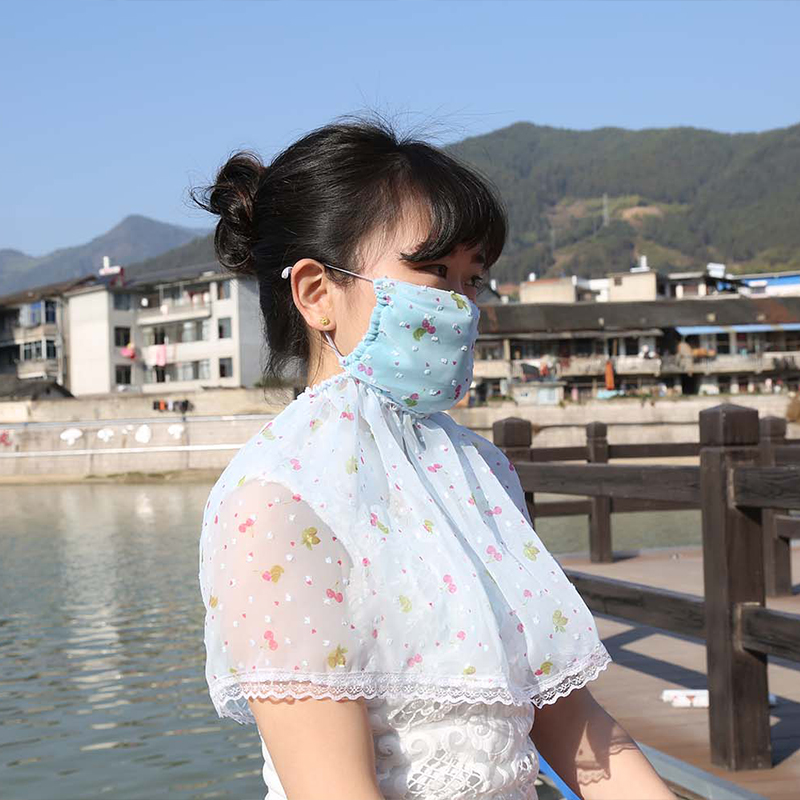face_mask: (340, 195, 488, 387)
